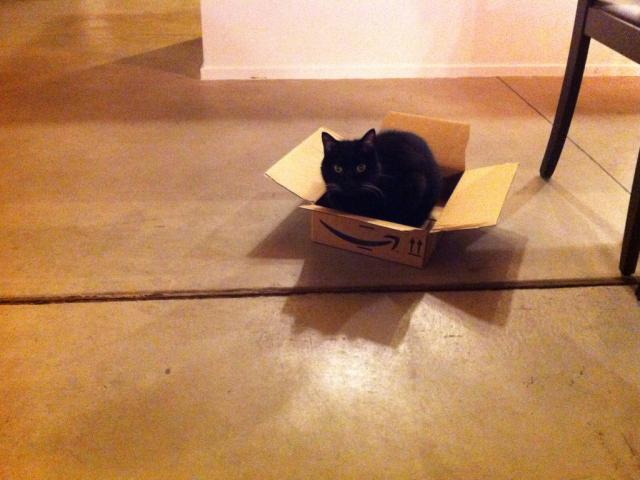Cat: (319, 130, 447, 228)
